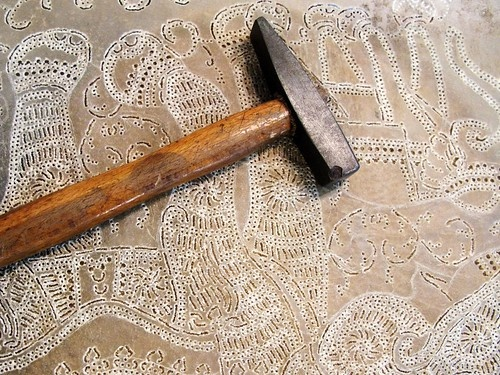hammer: (1, 14, 363, 270)
